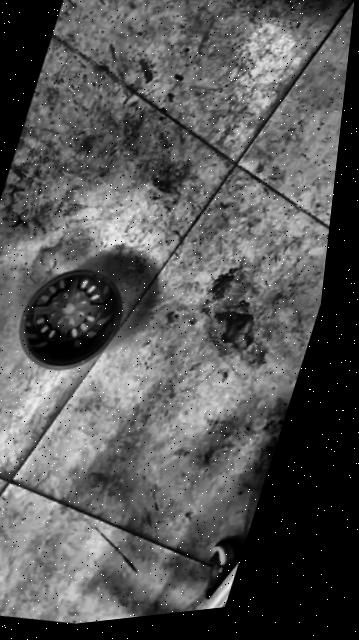pot: (3, 256, 136, 386)
